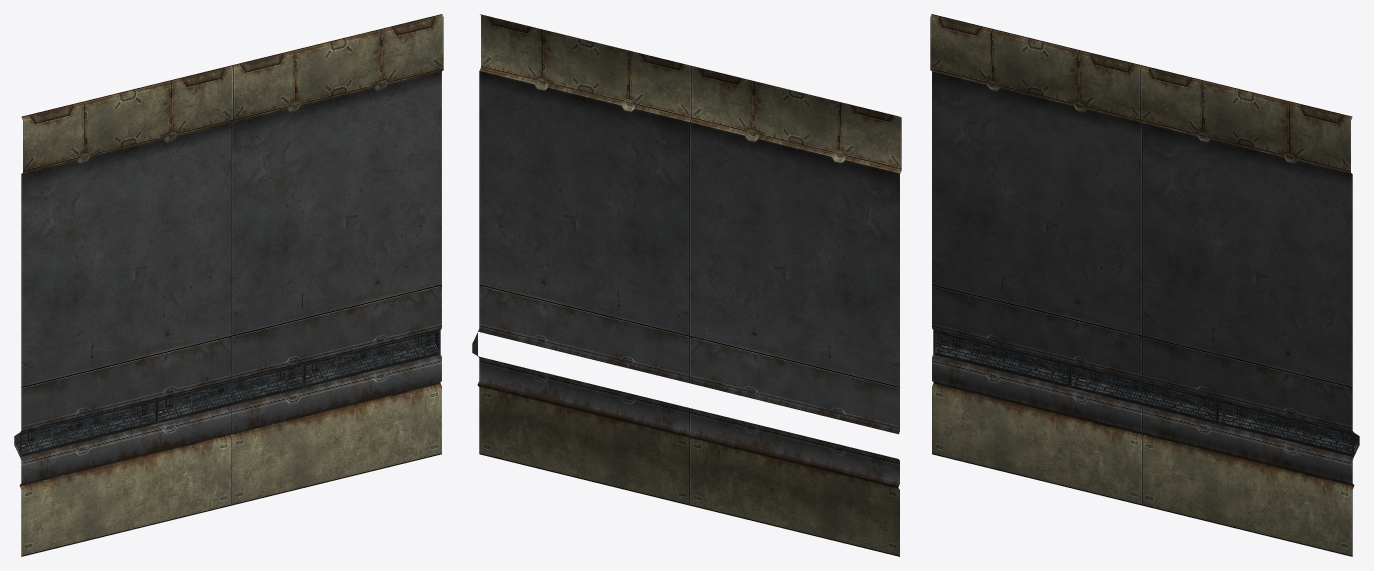
File: datasite_flat02.dae
3 views of the same model, side by side, from view 1: azimuth 30°, elevation 25°; view 2: azimuth 150°, elevation 25°; view 3: azimuth 330°, elevation 25° (orthographic).
Visible parts, largest first — view 1: polySurface26, pPlane2; view 2: polySurface26; view 3: polySurface26, pPlane2.
Part boxes in pixels (x1,y1,x2,y2): polySurface26: (19,14,443,556); pPlane2: (14,330,440,456); polySurface26: (477,14,901,556); polySurface26: (930,14,1354,556); pPlane2: (933,330,1359,456).
Size of the model in its own units: 4 by 4 by 0.1439.
